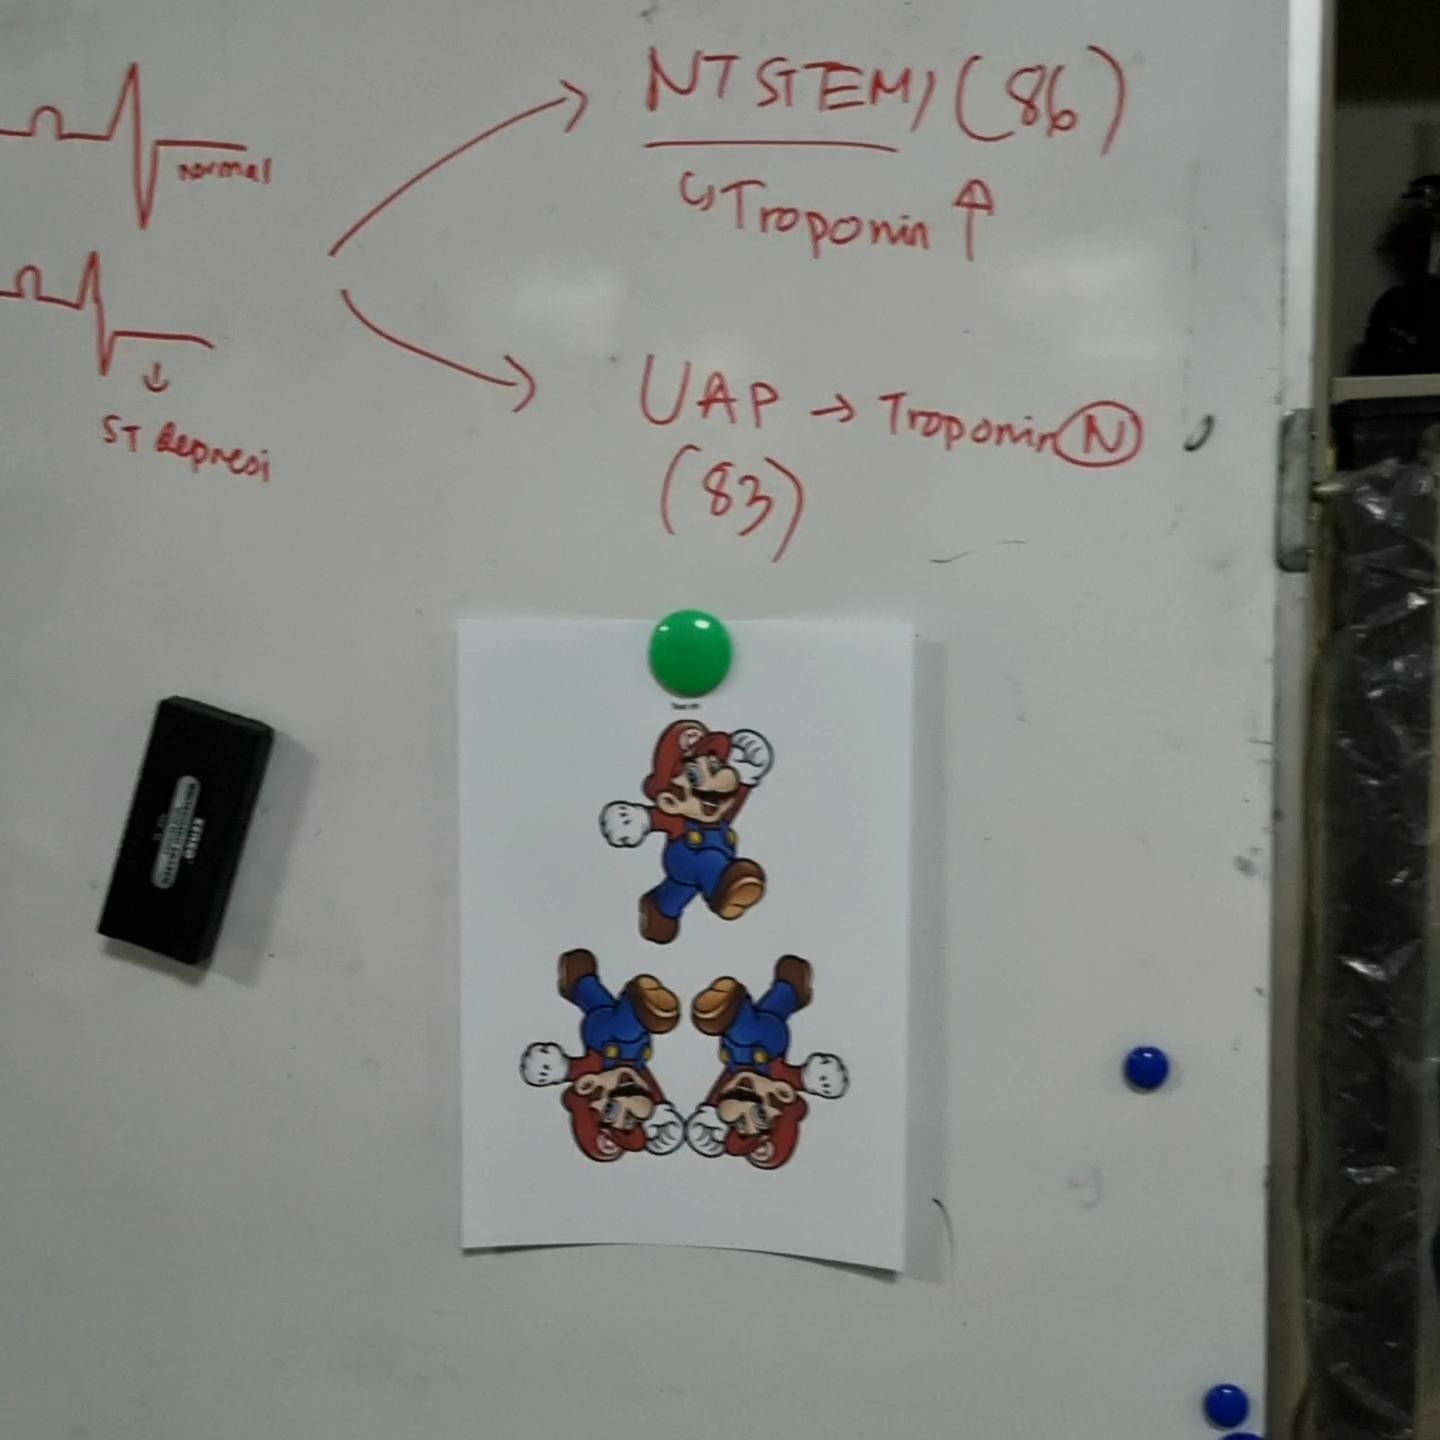mario: (592, 707, 781, 945), (684, 949, 861, 1187), (522, 947, 687, 1179)
